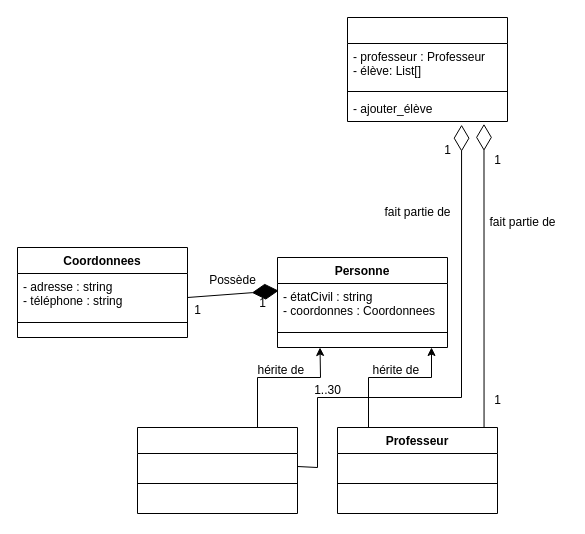
This 585x534 diagram has some shape labels left out. The shapes that lost their labels are listed below. From the top down, each one's box as (x1, y1, x2, y2) in pixels, then its label:
(346, 16, 508, 122): Classe
(136, 426, 298, 514): Elève
